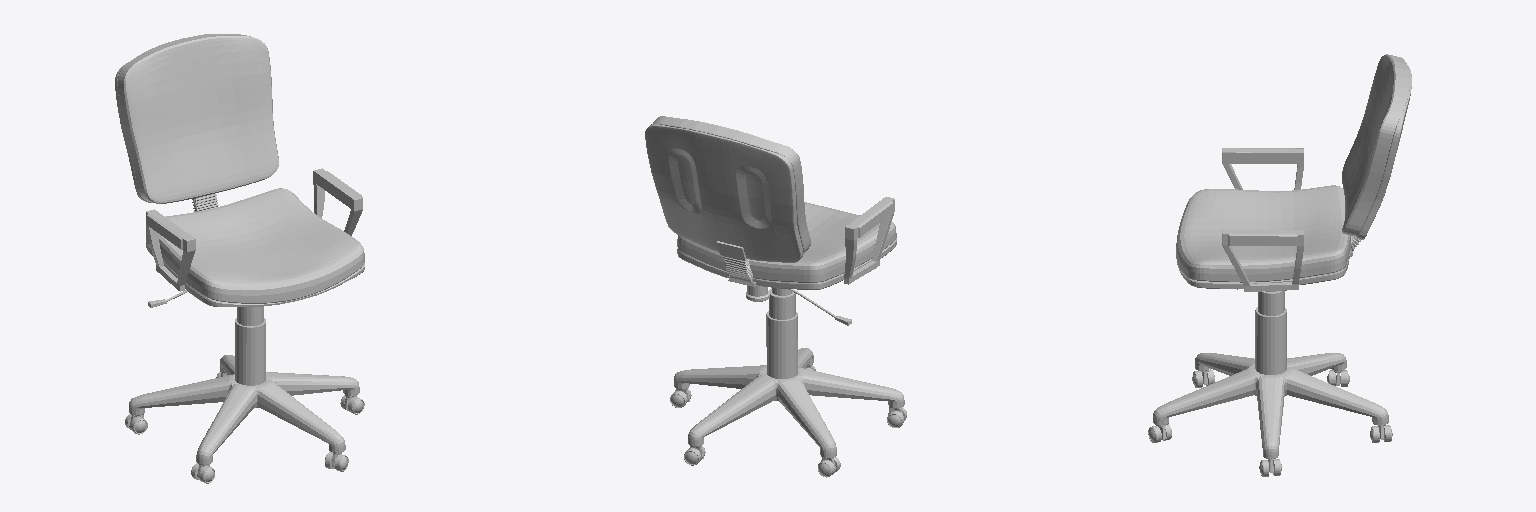
Rendered from Chair.obj.
3 renders of one model, left to right at view 1: azimuth 30°, elevation 25°; view 2: azimuth 150°, elevation 25°; view 3: azimuth 270°, elevation 25°, orthographic.
Visible parts, largest first — view 1: Office_chair; view 2: Office_chair; view 3: Office_chair.
Boxes of the visible parts, <box> form: Office_chair: <box>115,34,364,483</box>; Office_chair: <box>645,116,906,477</box>; Office_chair: <box>1148,54,1411,476</box>.
Size of the model in its own units: 2.71 by 4.51 by 3.08.